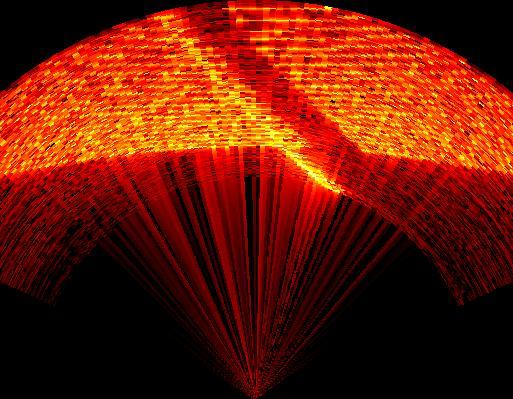pipe: (184, 2, 372, 186)
